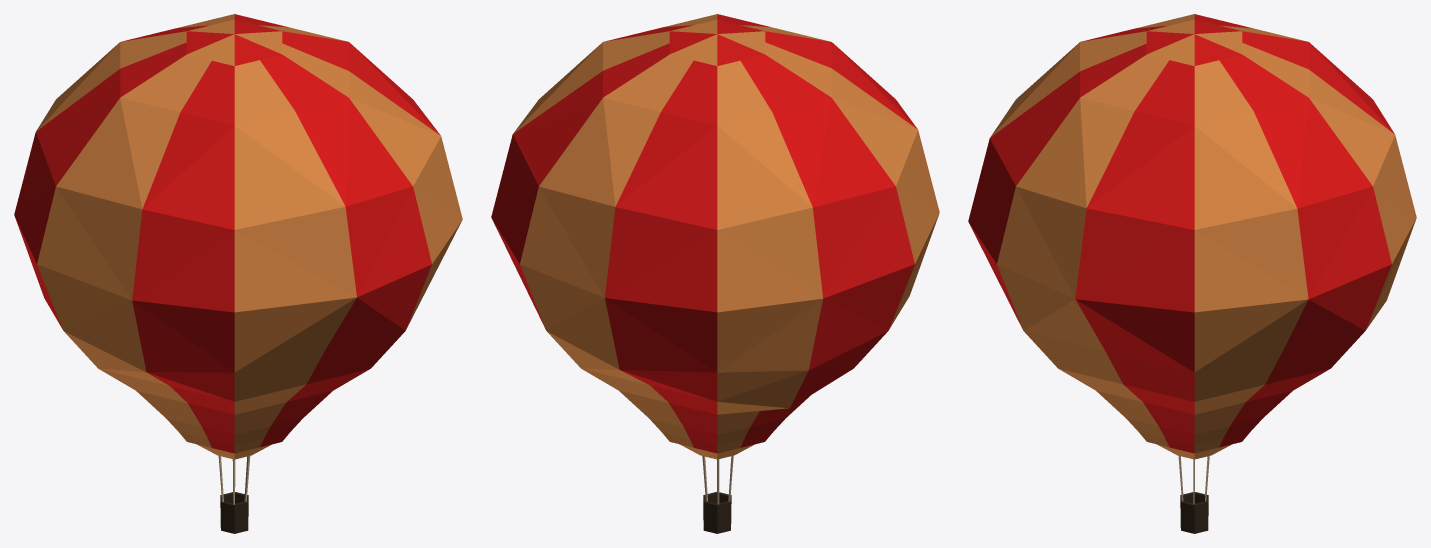
The model's file is balloon.FBX.
The picture shows the model from 3 angles, left to right: view 1: azimuth 30°, elevation 25°; view 2: azimuth 150°, elevation 25°; view 3: azimuth 270°, elevation 25°; orthographic projection.
Parts seen in each view (by area): view 1: balloon; view 2: balloon; view 3: balloon.
Part boxes in pixels (bbox=[...]): balloon: bbox=[14, 14, 462, 533]; balloon: bbox=[491, 14, 939, 533]; balloon: bbox=[968, 14, 1416, 533].
Size of the model in its own units: 1121 by 1337 by 1102.
